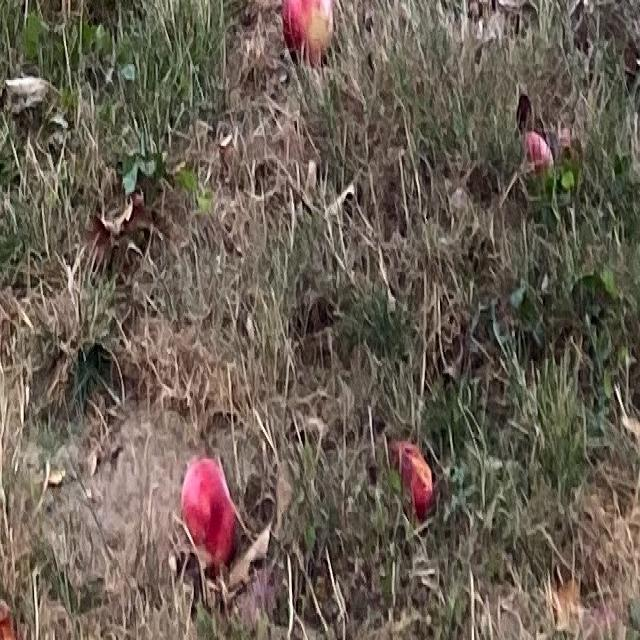Apples: (182, 462, 238, 558), (283, 0, 335, 61)
